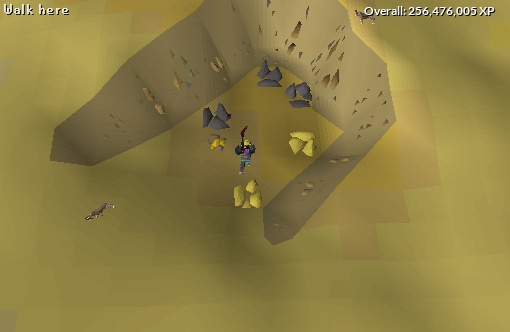depleted: (228, 178, 269, 211), (286, 129, 327, 160), (197, 102, 239, 131), (282, 80, 318, 112), (257, 63, 285, 90)
